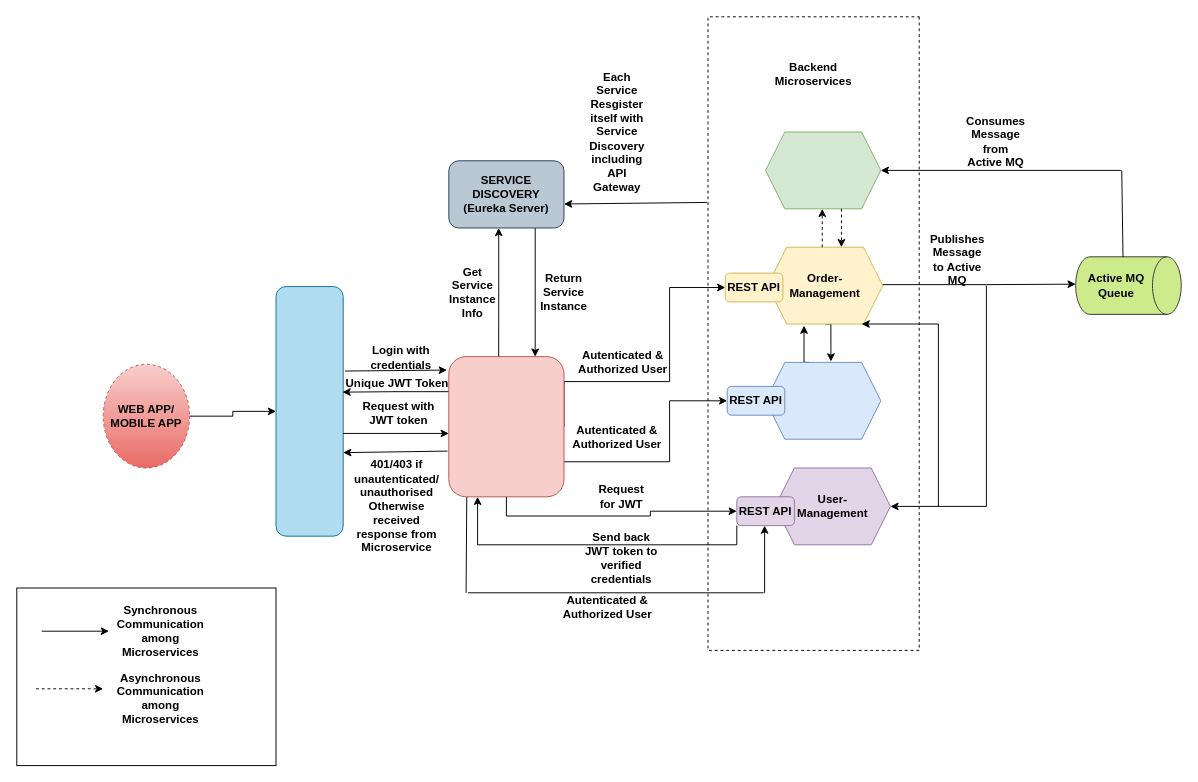
Some shapes in this 1198 by 782 pixel diagram are drawn without their labels. Here are the shapes that lost their labels. From the top down, the box of each, then its label:
(765, 131, 881, 209): Notification-Service
(275, 286, 343, 536): FRONT END
(765, 361, 881, 439): Service-Catalogue
(448, 356, 564, 497): API GATEWAY (NETFLIX ZUUL)
